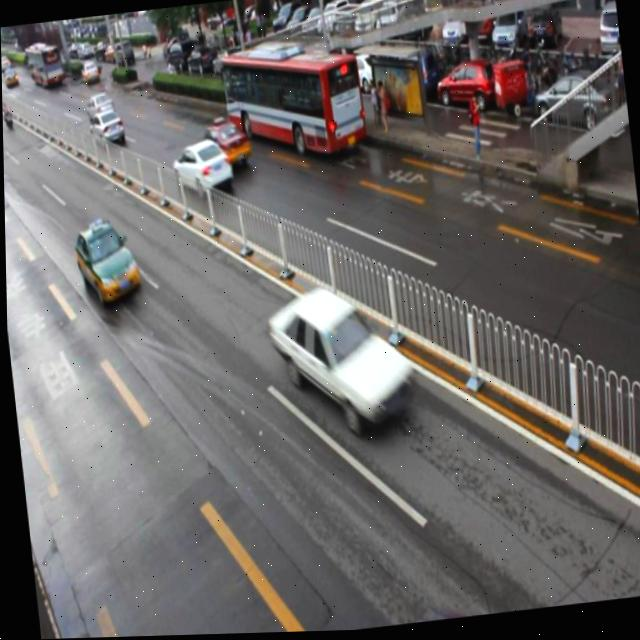car: (262, 278, 417, 442), (70, 212, 141, 307), (169, 137, 233, 197), (197, 116, 251, 173), (87, 106, 126, 150)
van: (219, 40, 366, 167)
